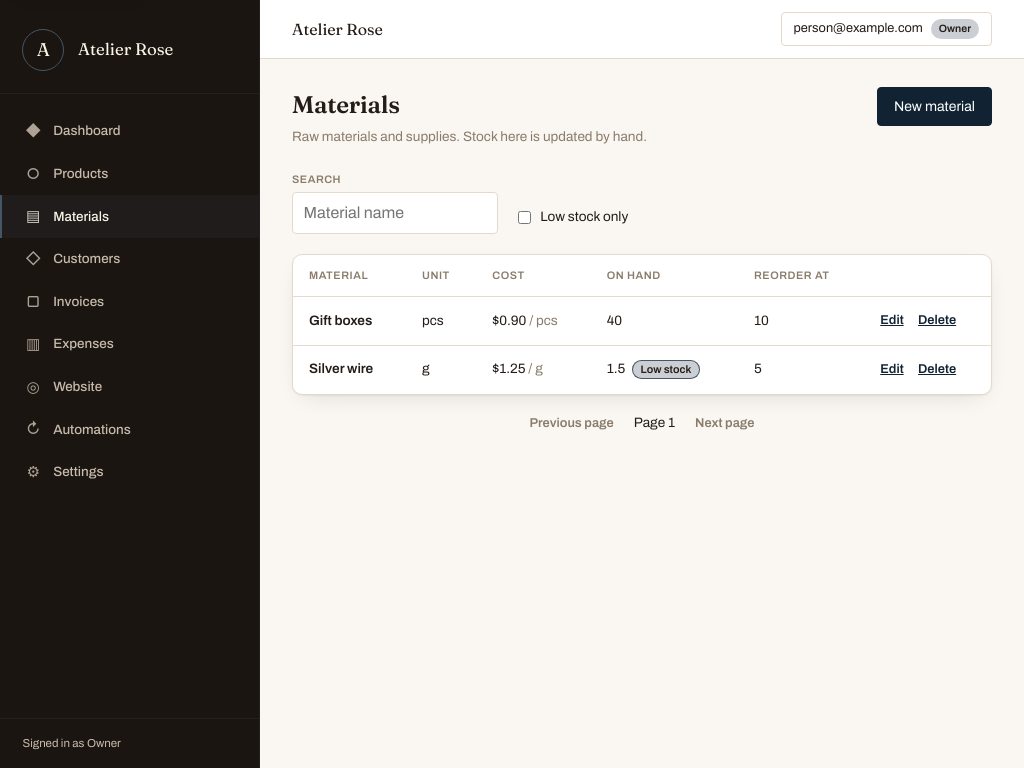
Test: create and edit › saving with no changes sends nothing
Click the button with aria-label "Edit Gift boxes".
click(892, 321)  # box [880,308,904,334]
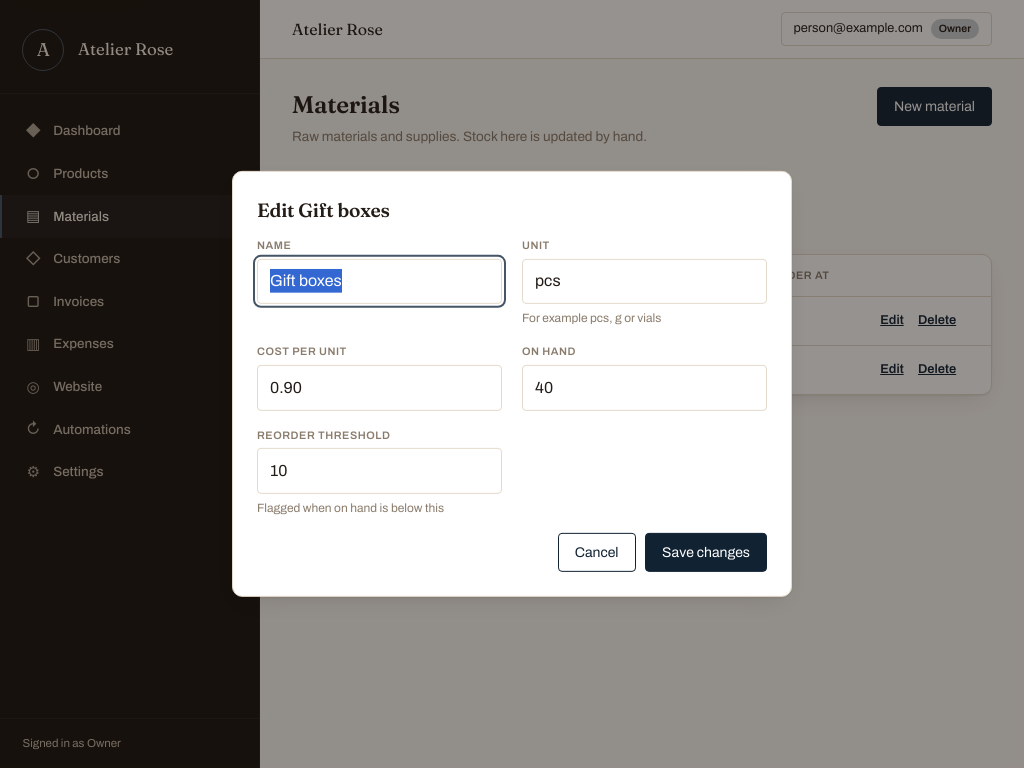
Click the button "Save changes".
click(706, 553)  # box [645,533,767,572]
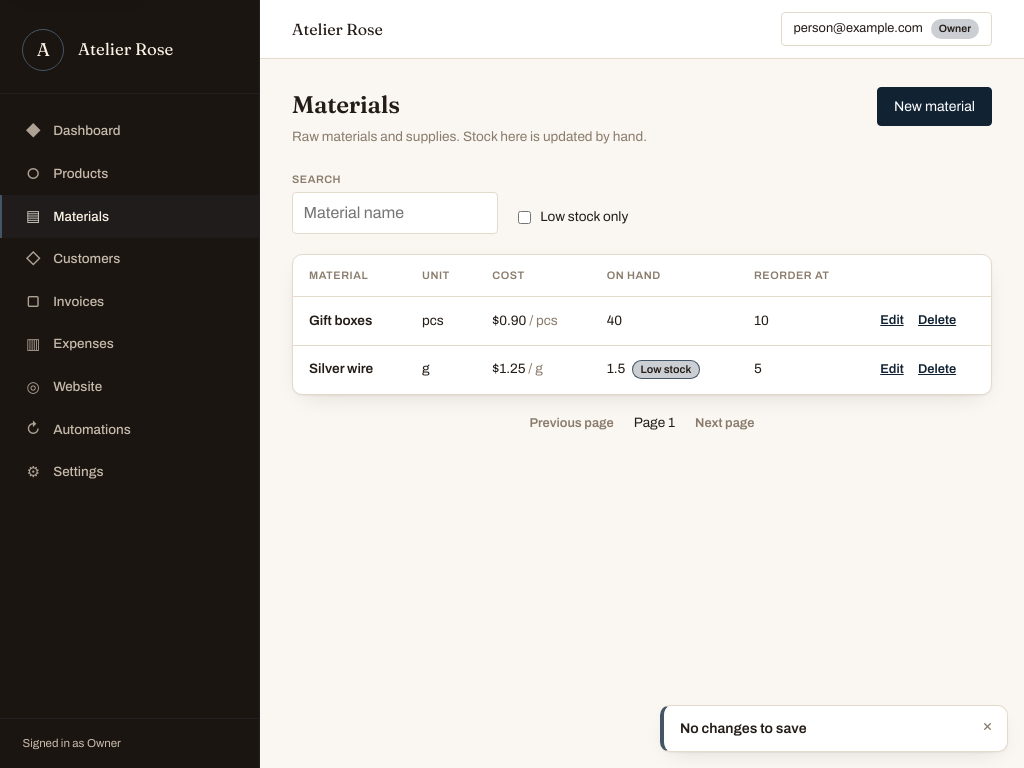
Now the text "No changes to save" is shown, box [680,721,807,736]
